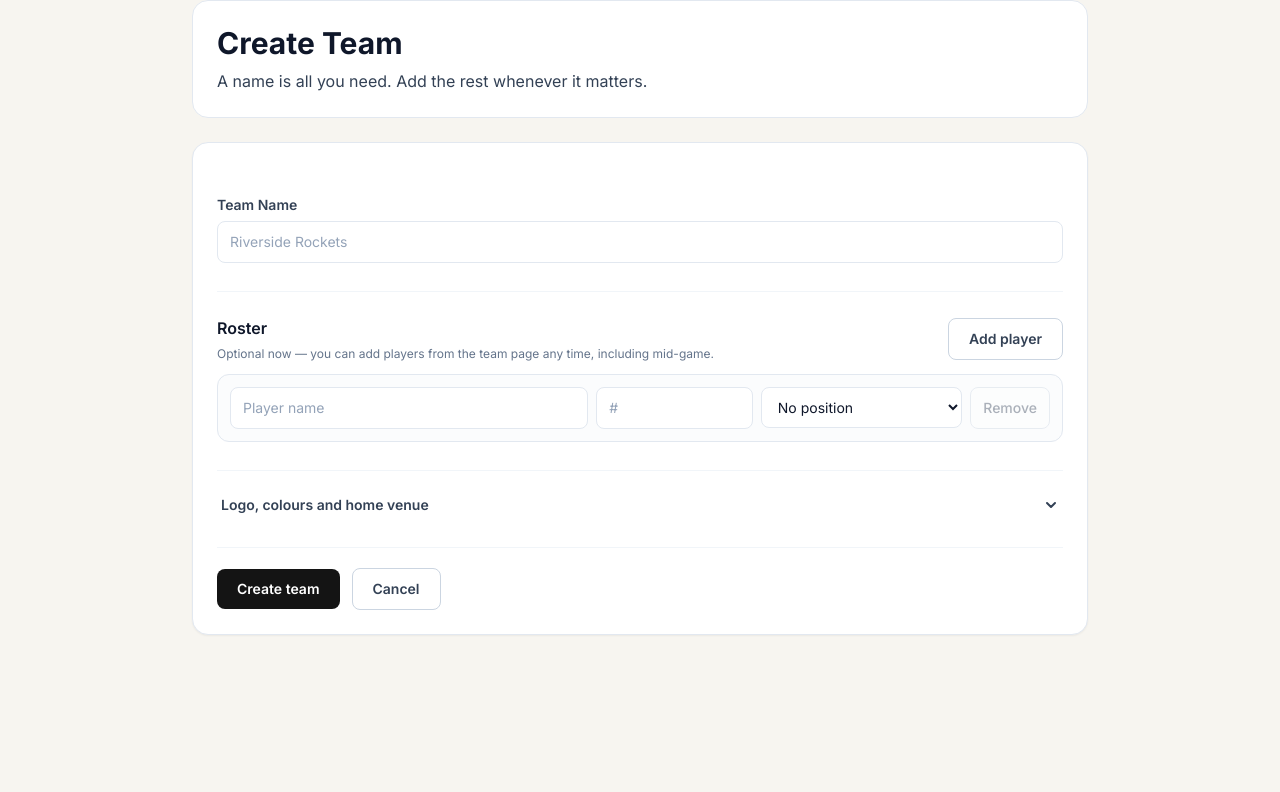
Test: NewTeamPage › shows friendly inline errors when venue details are incomplete
Type "TSW Blue" into the field labelled "Team Name" at x=640, y=242, box [217,221,1063,263]
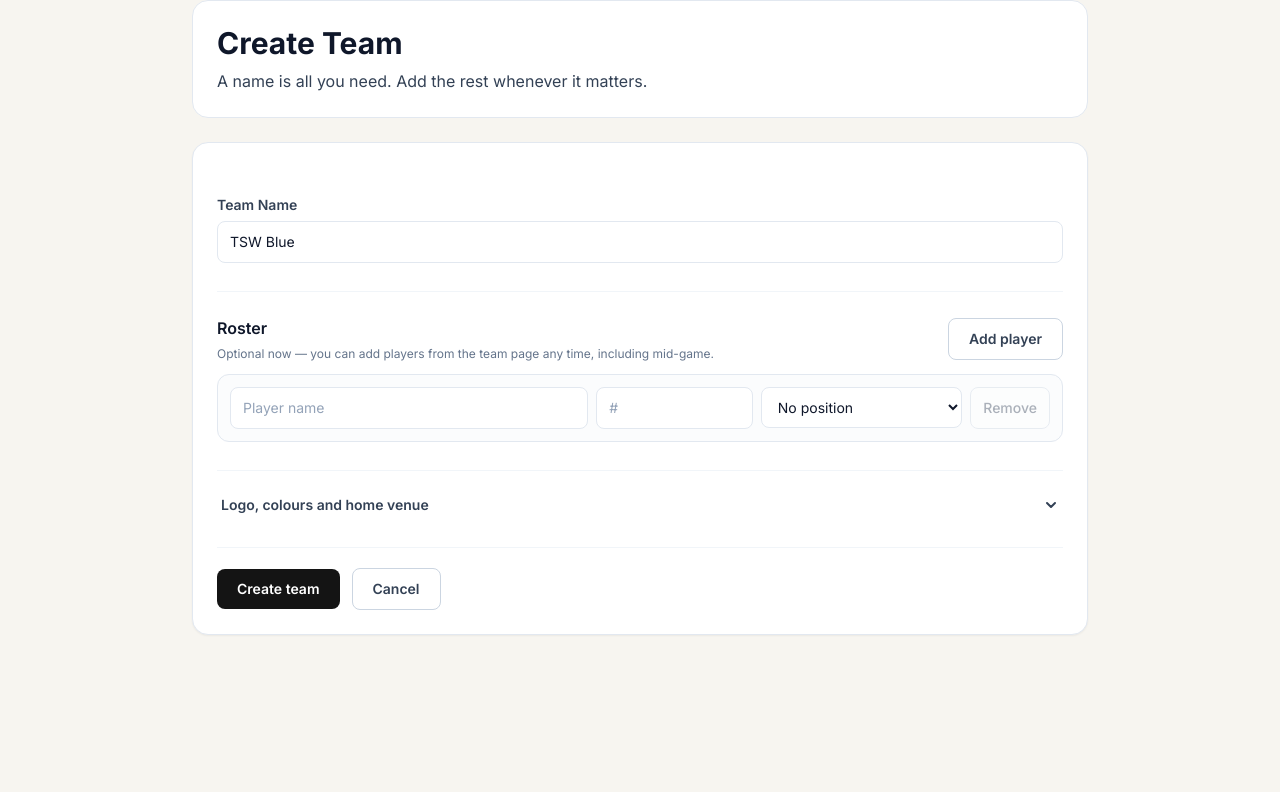
Click the button "Logo, colours and home venue" at x=325, y=504, box [217,491,1063,519]
(page scrolled)
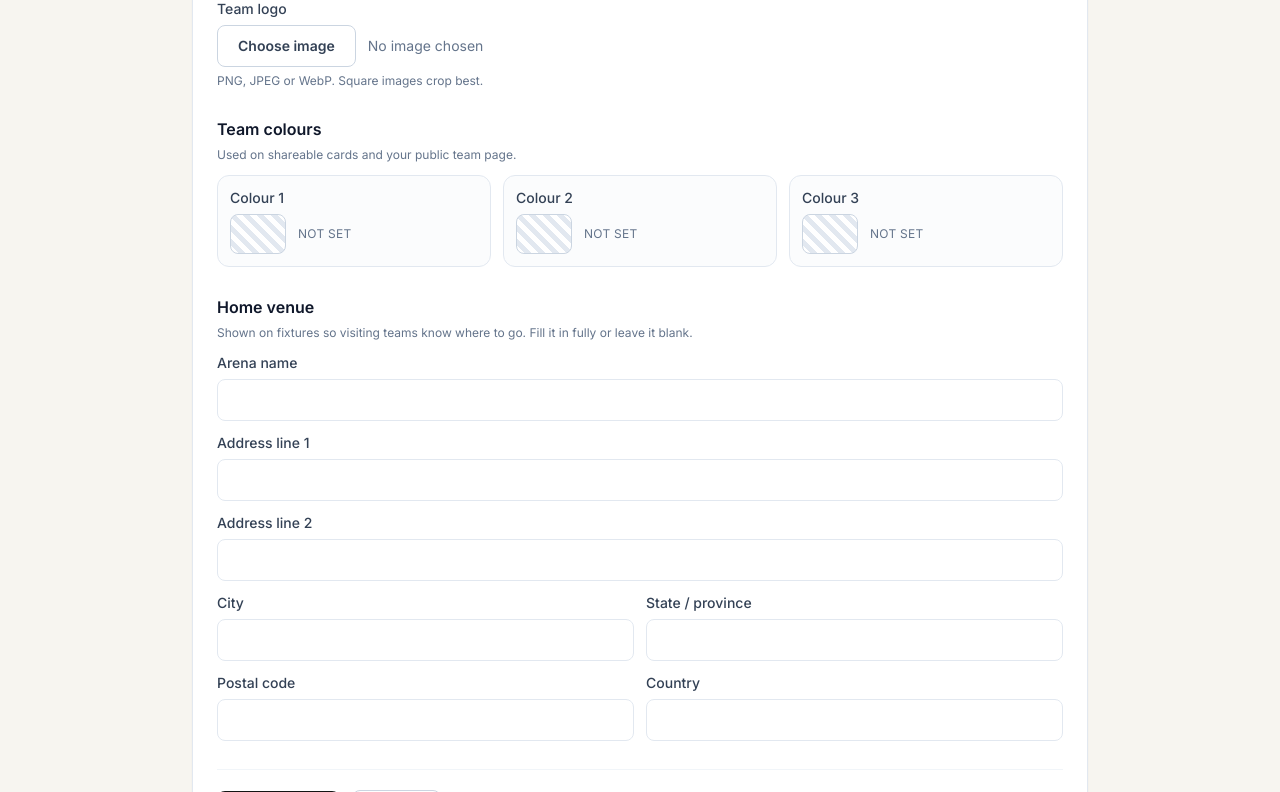
Type "Main Gym" into the field labelled "Arena name" at x=640, y=400, box [217,379,1063,421]
(page scrolled)
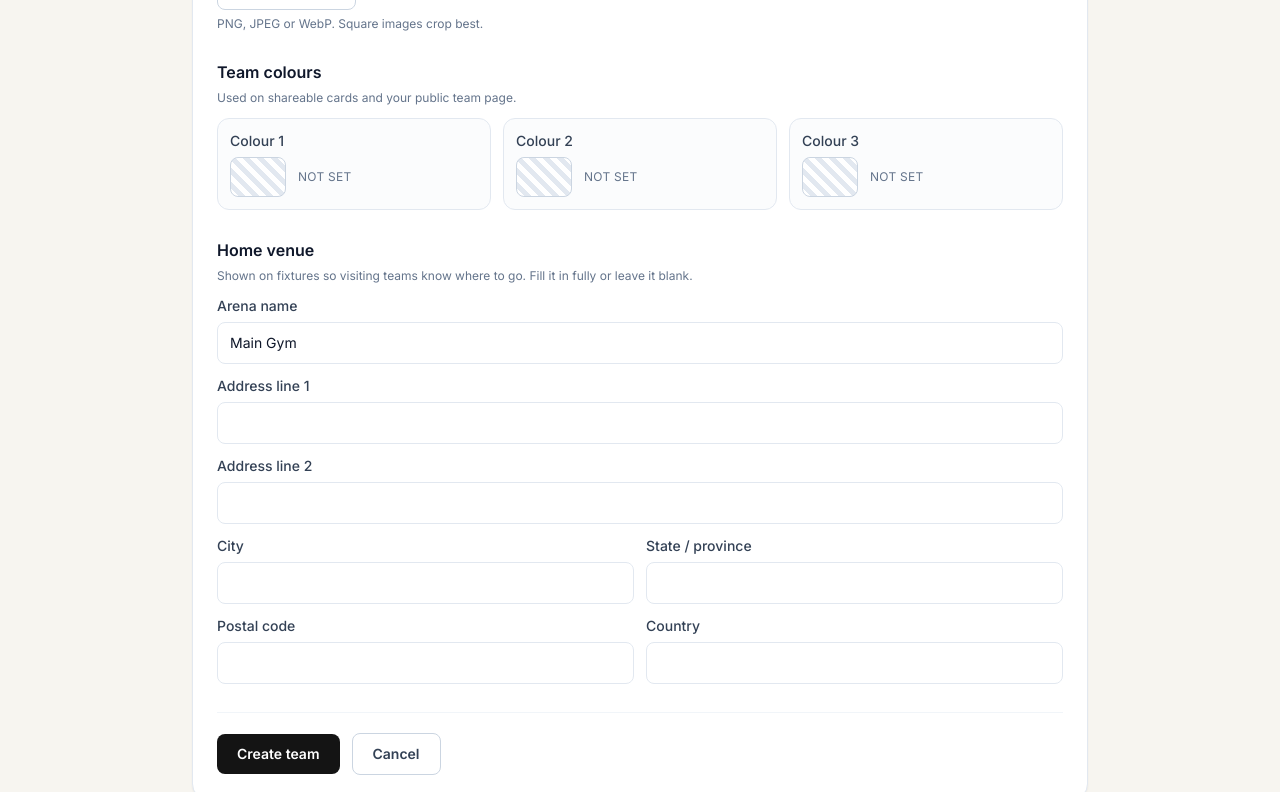
Click the button "Create team" at x=278, y=754, box [217,734,340,774]
(page scrolled)
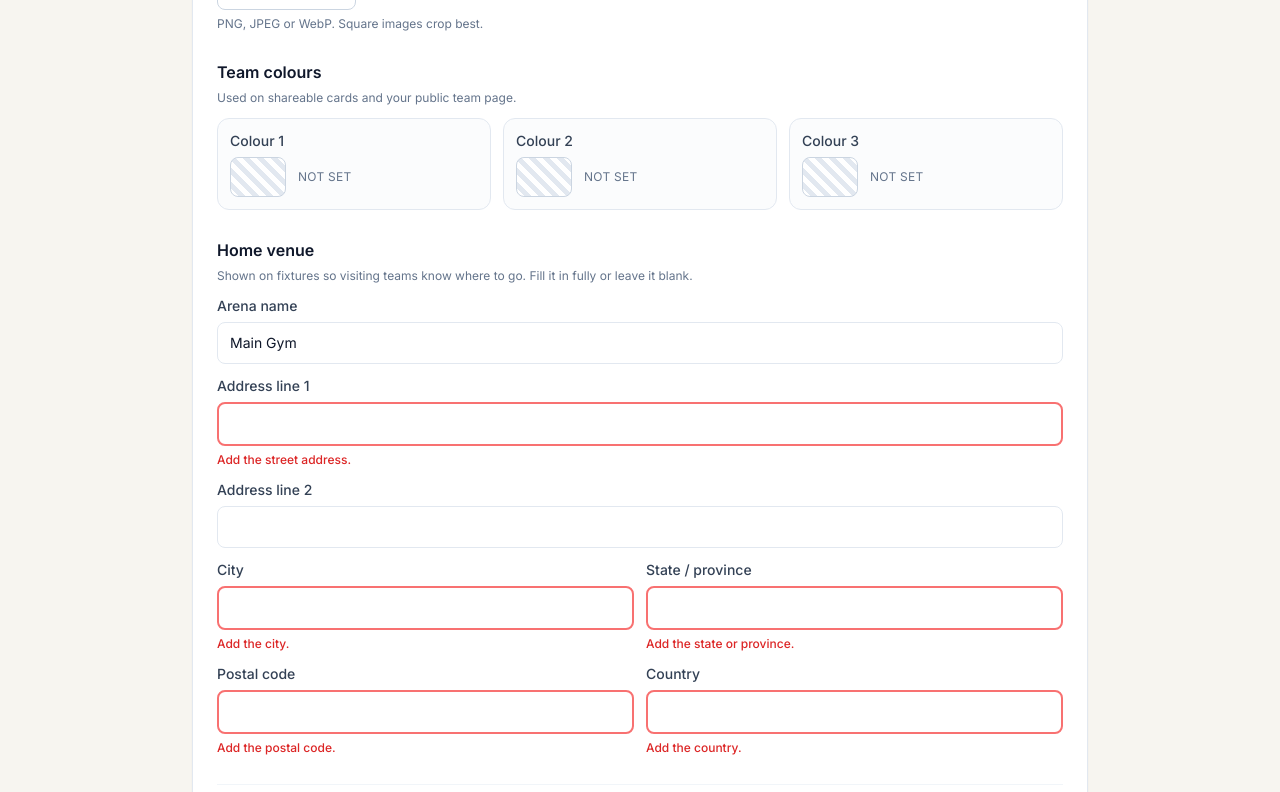
Now the text "Add the street address." is shown, box [217,452,351,467]
Now the text "Add the city." is shown, box [217,636,289,651]
Now the text "Add the state or province." is shown, box [646,636,794,651]
